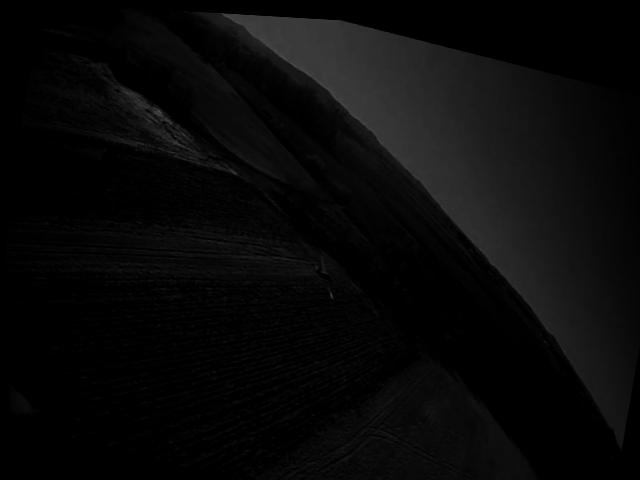hedef: (290, 245, 354, 299)
